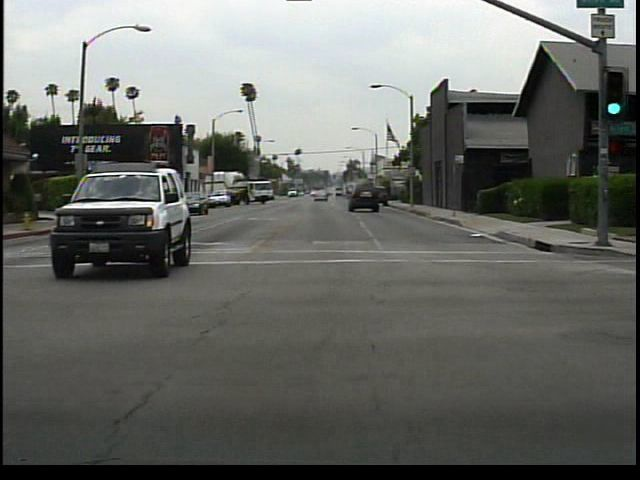person: (97, 182, 117, 219)
